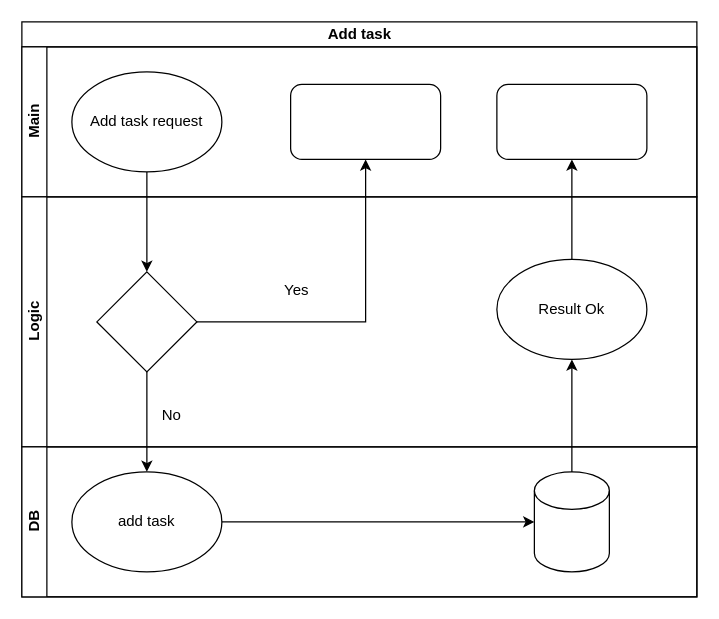
This 719x619 diagram has some shape labels left out. The shapes that lost their labels are listed below. From the top down, each one's box as (x1, y1, x2, y2) in pixels, then its label:
(289, 83, 441, 159): EmptyTitle Exception
(496, 83, 647, 159): Task added
(96, 271, 197, 372): Is title empty?
(533, 471, 609, 572): Task struct
